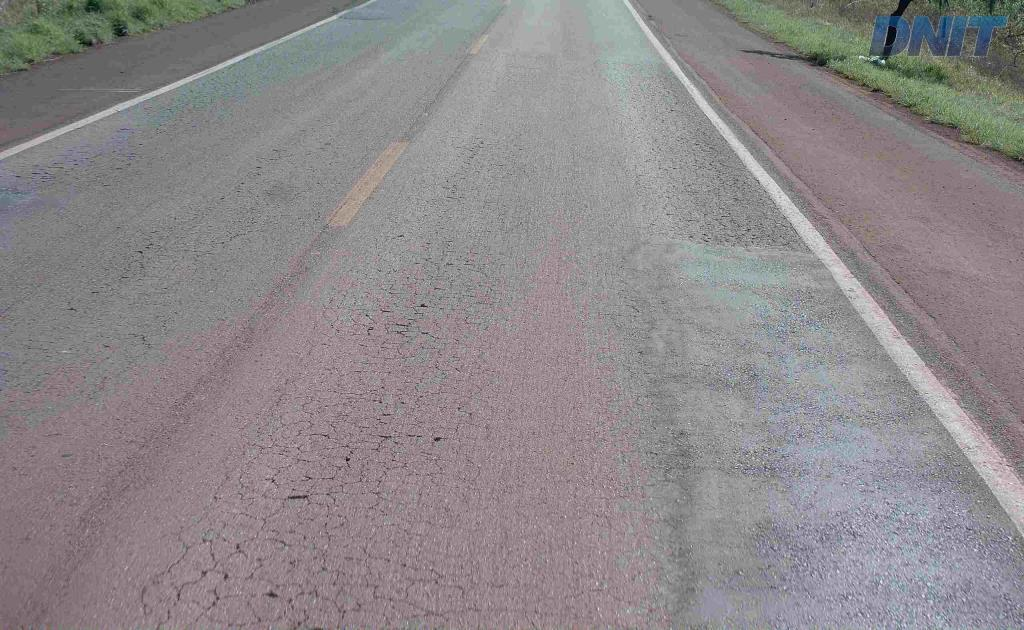crack: (351, 420, 409, 488), (309, 431, 360, 480)
